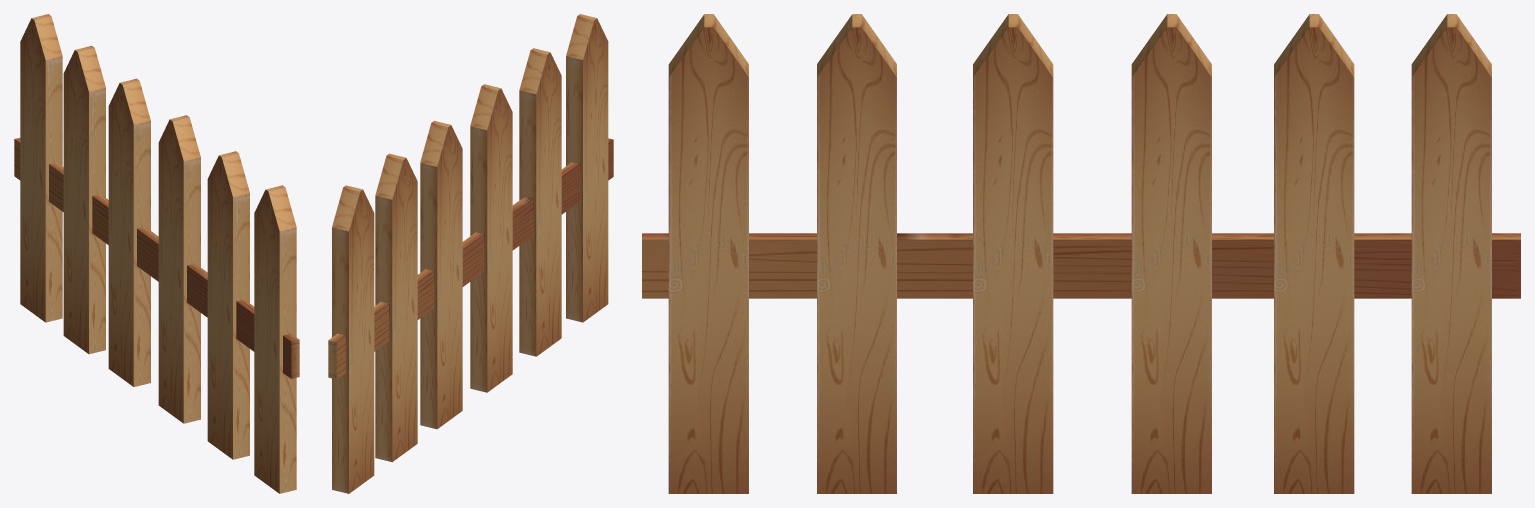
The model's file is cercaTileNFlipped.fbx.
The picture shows the model from 3 angles, left to right: view 1: azimuth 30°, elevation 25°; view 2: azimuth 150°, elevation 25°; view 3: azimuth 270°, elevation 25°; orthographic projection. The views are drawn at different scales.
Parts seen in each view (by area): view 1: Cube.028; view 2: Cube.028; view 3: Cube.028.
Boxes of the visible parts, x1,y1,x2,y2 form: Cube.028: (14,14,299,493); Cube.028: (328,14,613,493); Cube.028: (642,14,1520,493).
Size of the model in its own units: 3.57 by 58.68 by 100.
Materials: 1 (1 with a texture image).
